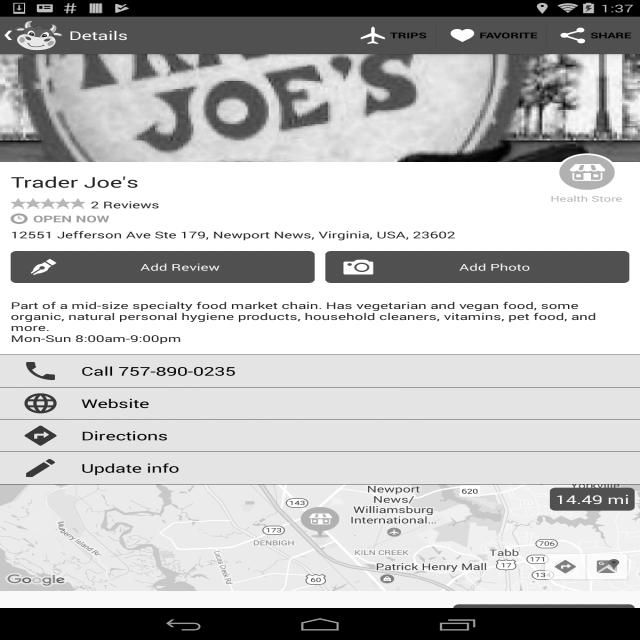Button: (0, 419, 640, 452), (0, 355, 640, 387), (0, 388, 640, 420), (0, 452, 640, 484), (326, 251, 630, 283), (11, 251, 314, 283), (453, 604, 635, 636)
ImageButton: (0, 54, 640, 162)
ImageView: (533, 152, 640, 193), (14, 19, 64, 52), (5, 573, 70, 588), (0, 30, 17, 41)
RatingBar: (11, 198, 85, 209)
TextView: (11, 299, 629, 345), (10, 172, 522, 192), (16, 604, 448, 624), (11, 225, 456, 244), (16, 286, 629, 299), (436, 17, 546, 54), (547, 17, 640, 54), (347, 17, 435, 54), (550, 488, 635, 510), (11, 209, 109, 225), (86, 198, 160, 211), (69, 27, 128, 43), (550, 193, 622, 204), (11, 286, 16, 299)
